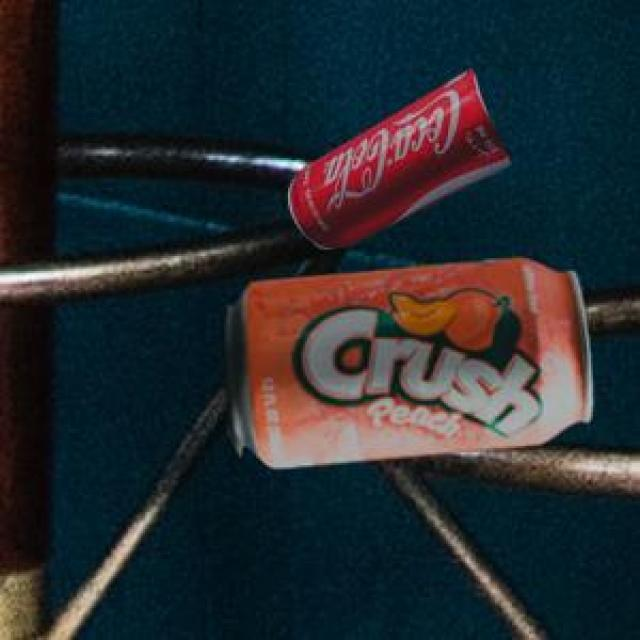Can: (221, 255, 590, 464), (285, 67, 507, 246)
